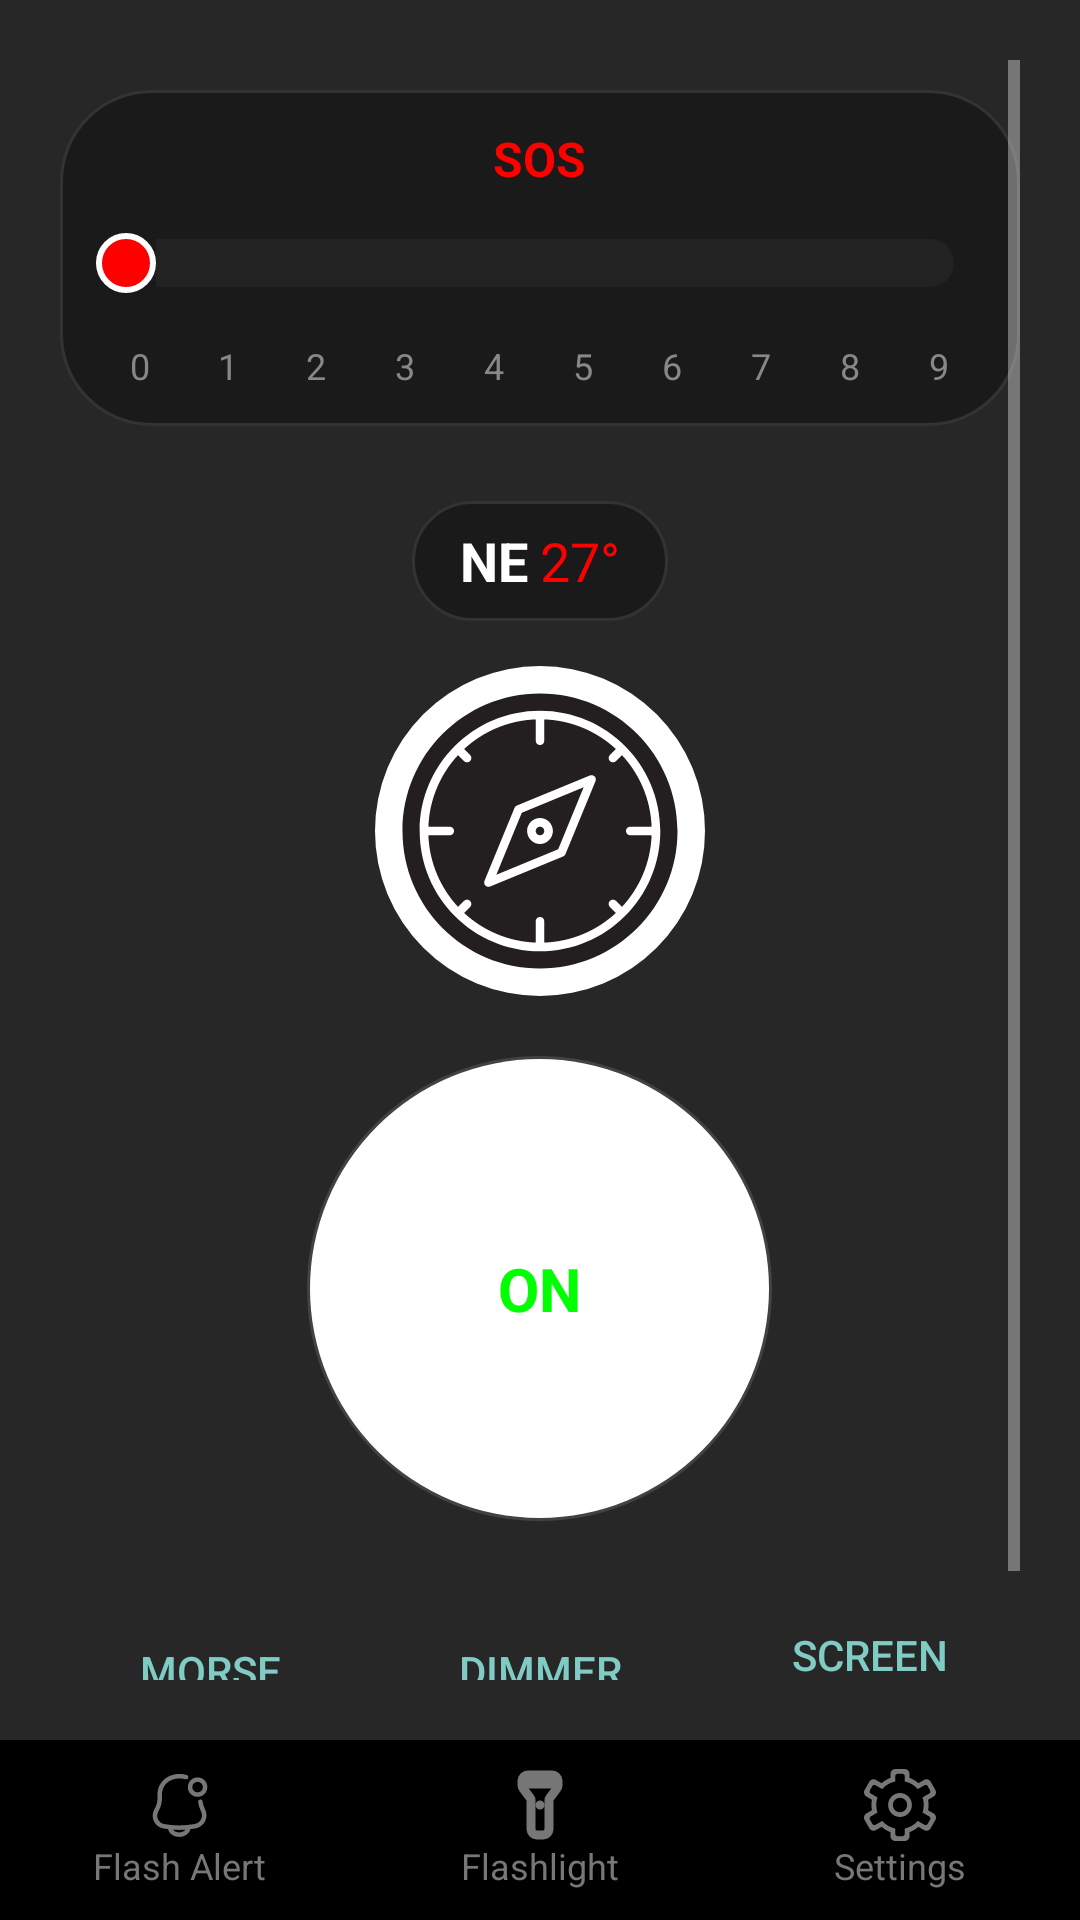

Screen size 1080 × 1920. Icon name, then its center in pixels as (x,y):
compass: (540,831)
